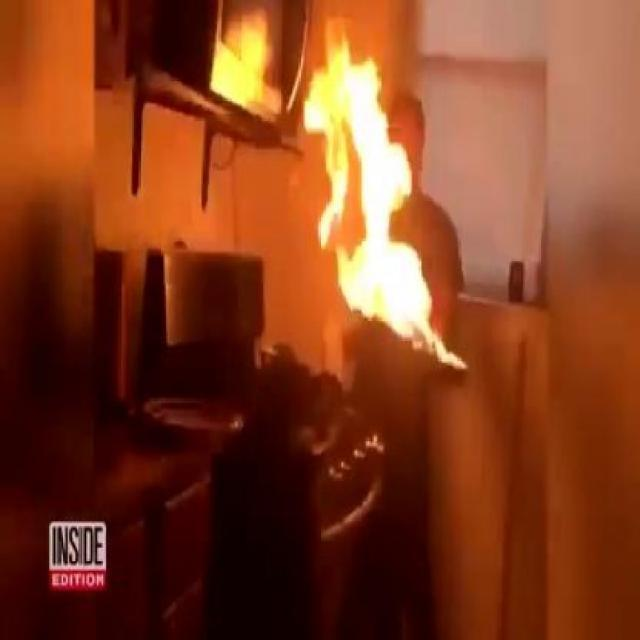smoke: (322, 34, 468, 371)
